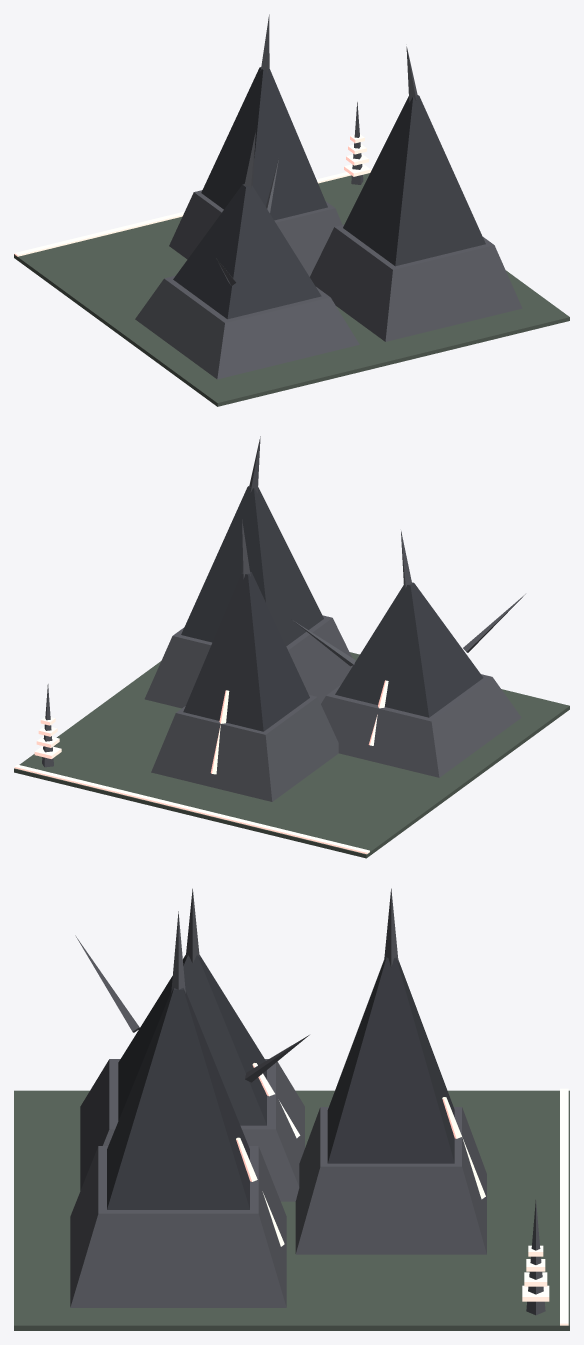
Rendered from zone_low_1_t4.glb.
3 renders of one model, top to bottom at view 1: azimuth 30°, elevation 25°; view 2: azimuth 150°, elevation 25°; view 3: azimuth 270°, elevation 25°, orthographic. The views are drawn at different scales.
Parts seen in each view (by area): view 1: zone_low_1_t4, detail; view 2: zone_low_1_t4, detail; view 3: zone_low_1_t4, detail.
Boxes of the visible parts, x1,y1,x2,y2 form: zone_low_1_t4: [14, 14, 569, 406]; detail: [14, 102, 370, 285]; zone_low_1_t4: [14, 436, 569, 858]; detail: [14, 594, 525, 854]; zone_low_1_t4: [14, 888, 569, 1330]; detail: [75, 935, 568, 1325].
Bounding box in the file's own units: 19.6 × 13.67 × 19.6.
